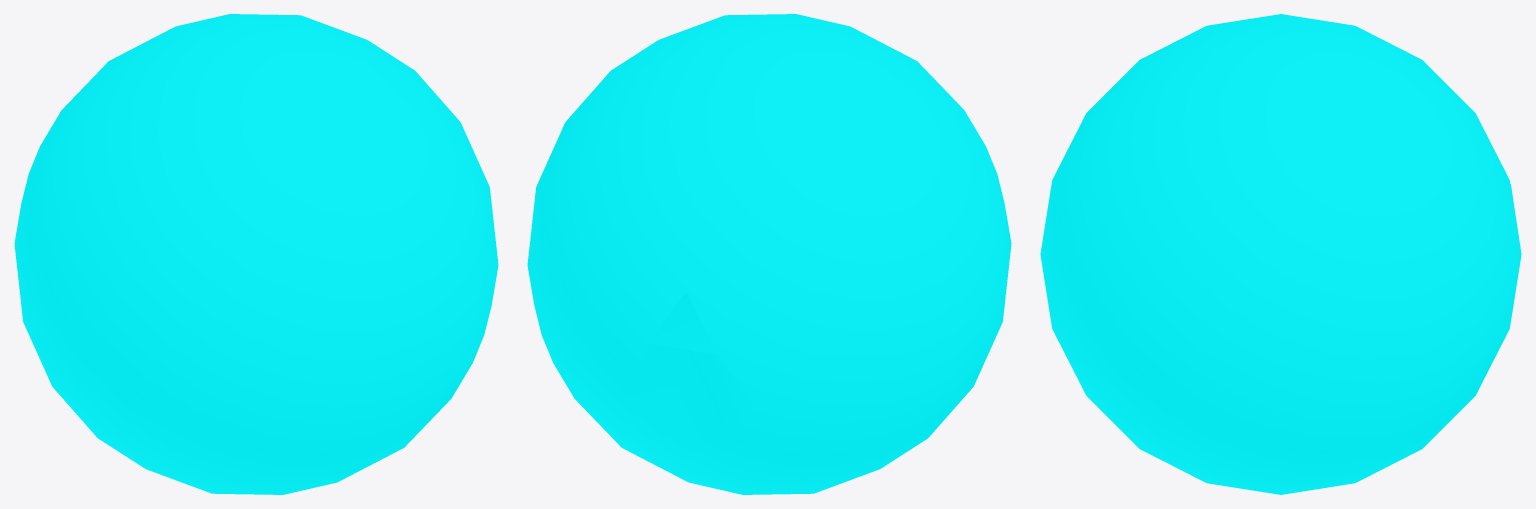
File: Soul_Orb_Asset.glb
3 views of the same model, side by side, from view 1: azimuth 30°, elevation 25°; view 2: azimuth 150°, elevation 25°; view 3: azimuth 270°, elevation 25° (orthographic).
Parts seen in each view (by area): view 1: Soul_Halo; view 2: Soul_Halo; view 3: Soul_Halo.
Part boxes in pixels (box(x1,y1,x2,y2)): Soul_Halo: box(14, 14, 498, 494); Soul_Halo: box(527, 14, 1011, 494); Soul_Halo: box(1040, 14, 1521, 494).
Bounding box in the file's own units: 1.2 × 1.2 × 1.2.
